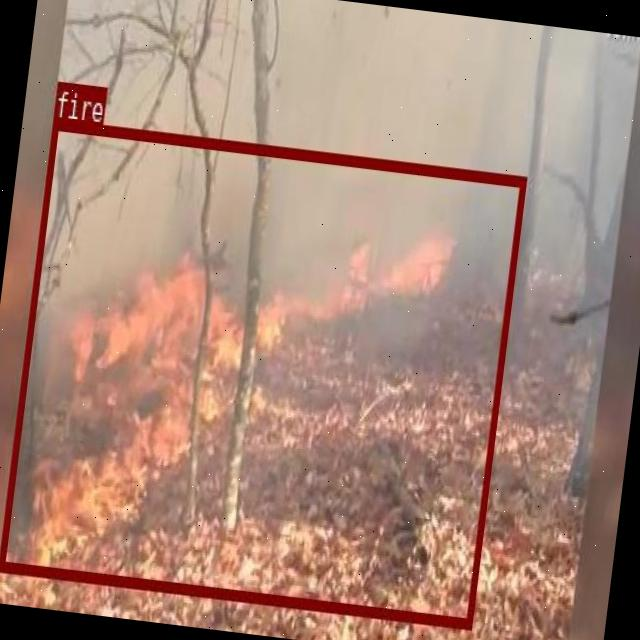fire: (0, 115, 525, 627)
